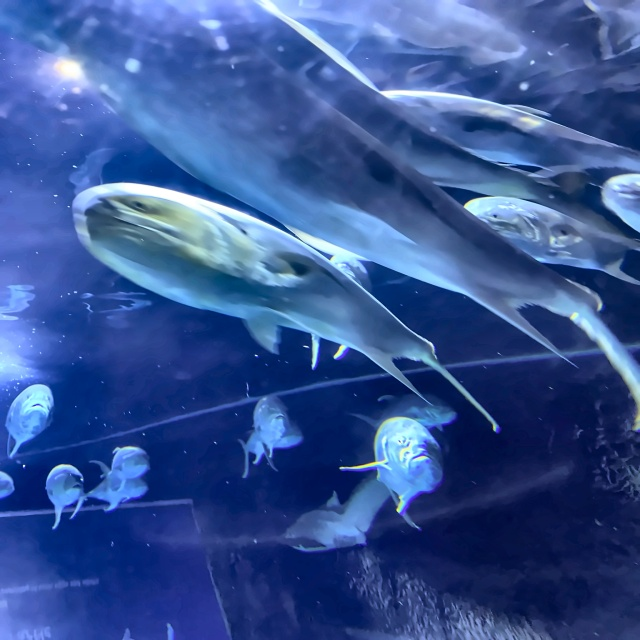fish: (96, 63, 639, 433), (73, 182, 498, 432), (375, 52, 639, 193), (464, 195, 639, 287), (338, 416, 441, 528), (5, 384, 52, 457), (239, 425, 300, 476), (374, 395, 455, 426), (88, 476, 146, 515), (48, 465, 83, 526), (93, 447, 148, 485), (254, 393, 287, 453), (605, 174, 639, 232), (0, 472, 16, 501)
shark: (284, 492, 367, 553)
